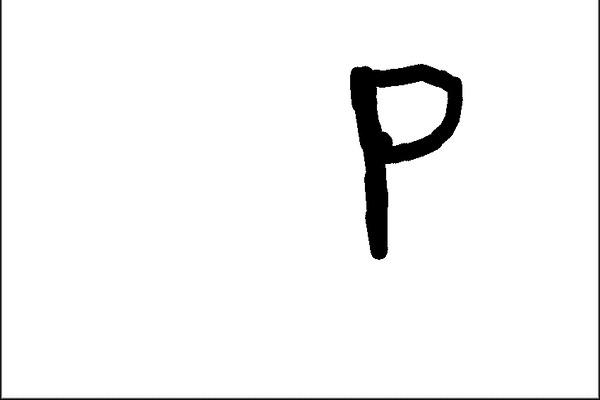P: (339, 53, 471, 268)
